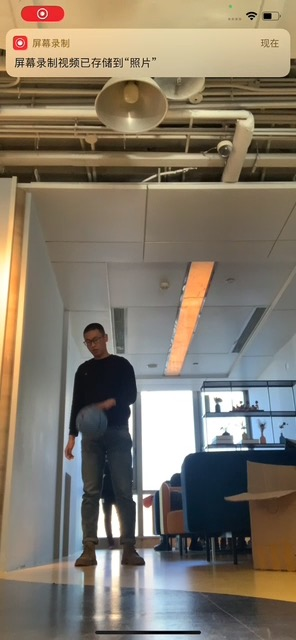ball: (76, 406, 108, 438)
